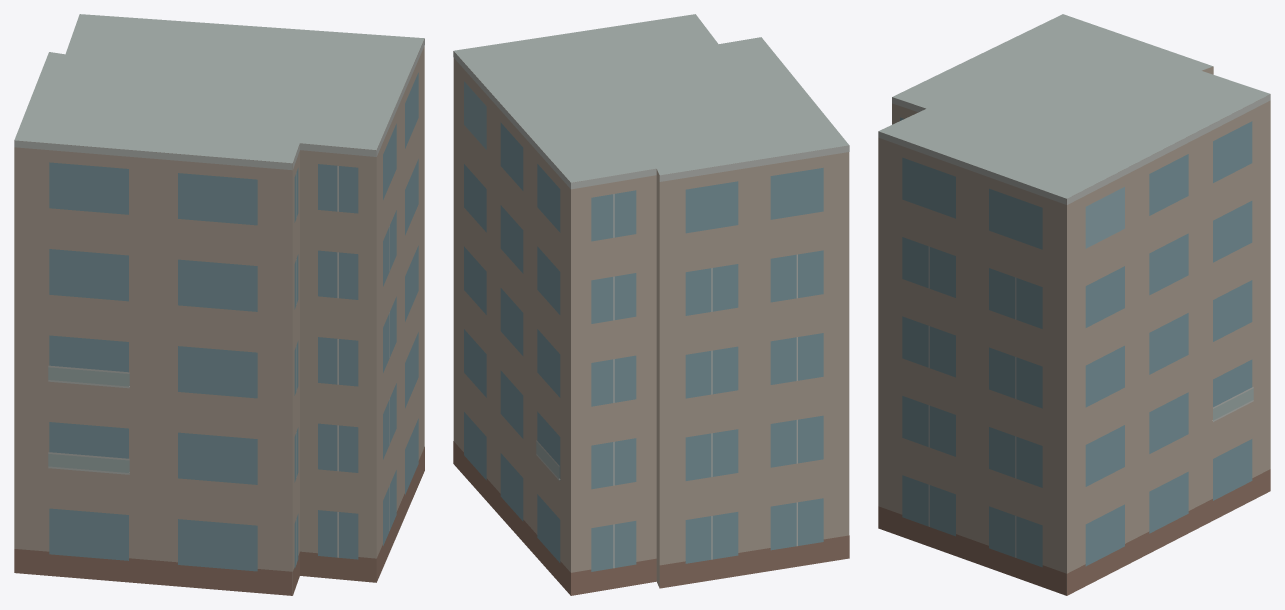
The model's file is survey-upis-32937586.glb.
The picture shows the model from 3 angles, left to right: view 1: azimuth 30°, elevation 25°; view 2: azimuth 150°, elevation 25°; view 3: azimuth 270°, elevation 25°; orthographic projection. The views are drawn at different scales.
Parts seen in each view (by area): view 1: survey-upis-32937586.tmp; view 2: survey-upis-32937586.tmp; view 3: survey-upis-32937586.tmp.
Part boxes in pixels (x1=…): survey-upis-32937586.tmp: x1=14, y1=14, x2=424, y2=595; survey-upis-32937586.tmp: x1=453, y1=14, x2=849, y2=595; survey-upis-32937586.tmp: x1=878, y1=14, x2=1270, y2=595.
Size of the model in its own units: 15.23 by 15.25 by 13.67.
